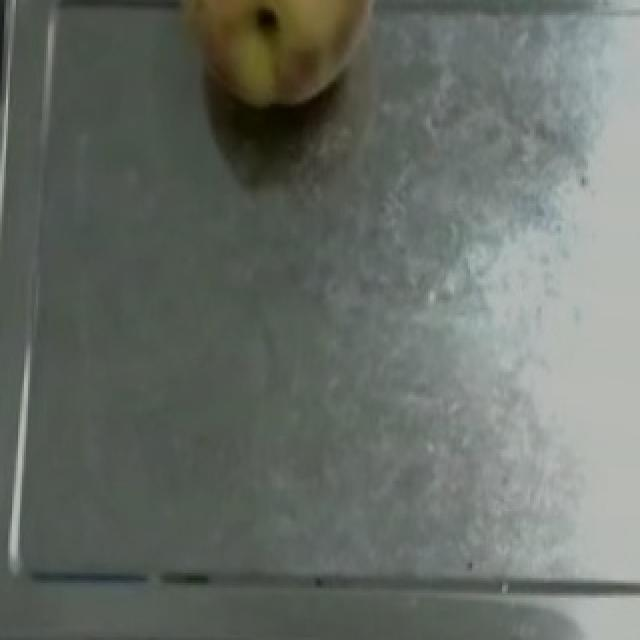Fruit: (156, 0, 408, 122)
